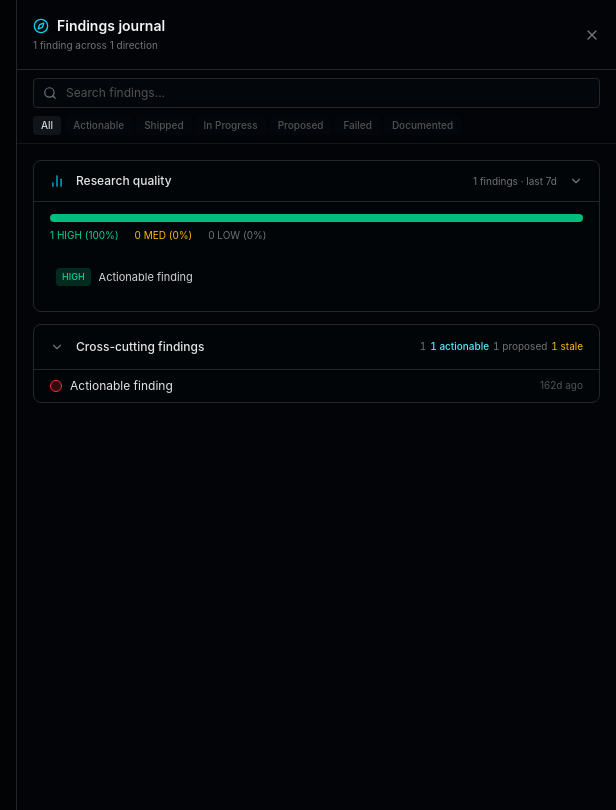
Test: ResearchBrowser quality card interactivity › clicking a quality card row expands that finding's detail in the main list
expect the text "Research quality" is shown: met, box [76, 173, 172, 188]
expect the text "important detail here" is not shown: met
Click the button "HIGH Actionable finding".
click(73, 277)  # box [50, 255, 583, 299]
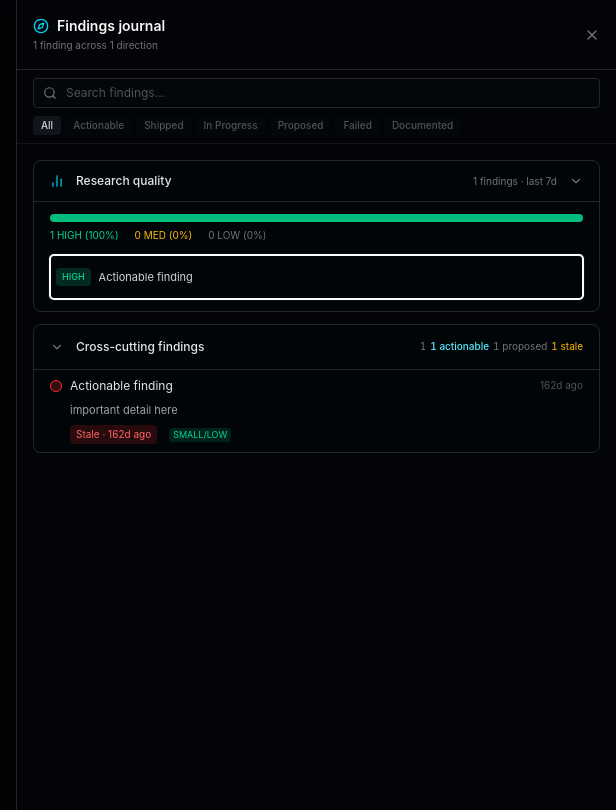
expect the text "important detail here" is shown: met, box [70, 402, 178, 416]
